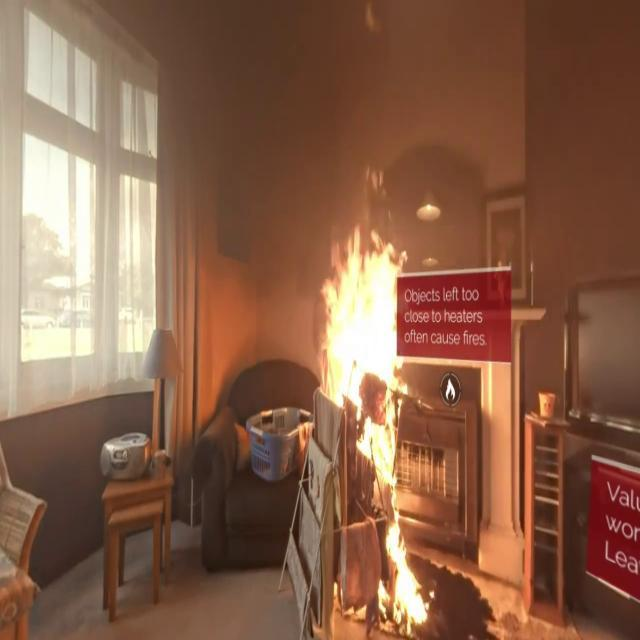Fire: (313, 216, 415, 500), (375, 516, 431, 630)
